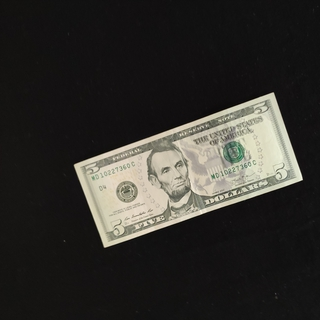5USDFront: (73, 91, 303, 247)
